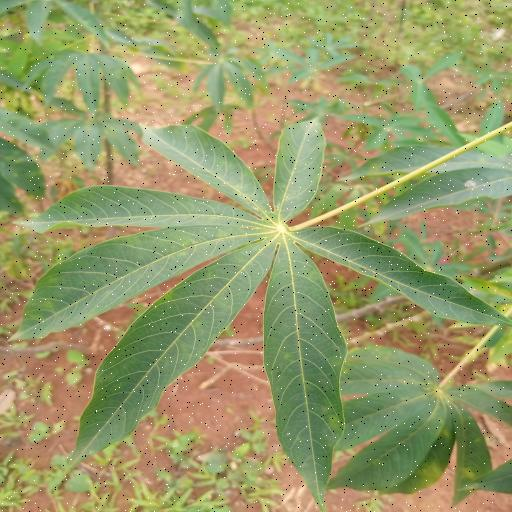Cassava_Mosaic: (30, 118, 508, 496)
